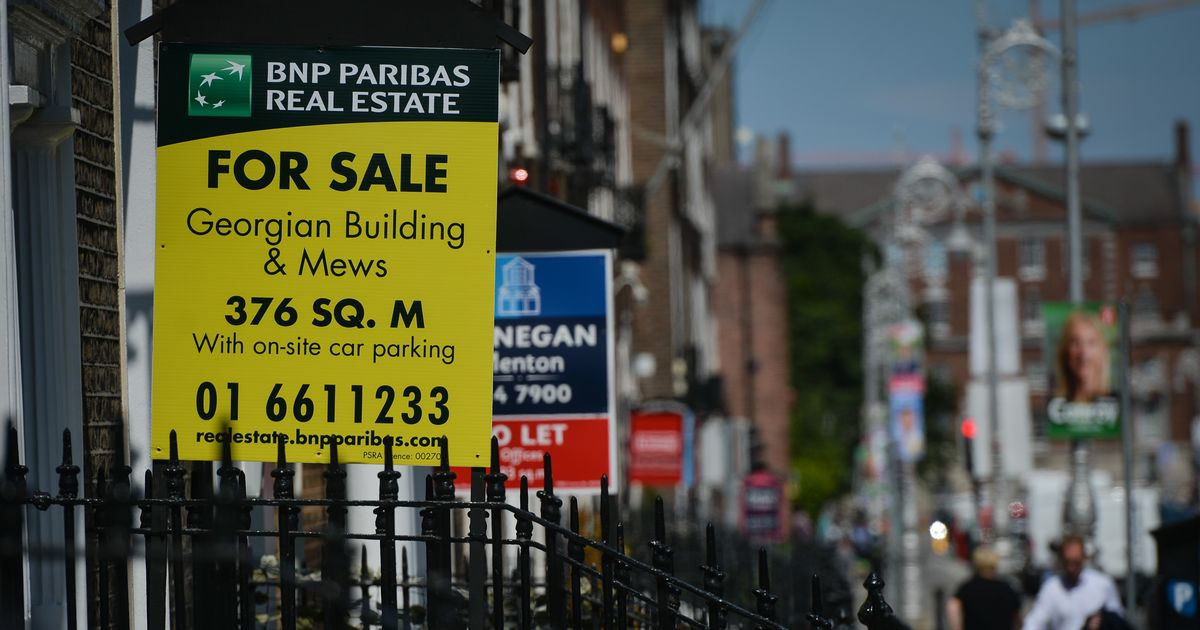property sign: (128, 28, 507, 475), (495, 247, 638, 524), (627, 401, 692, 496)
